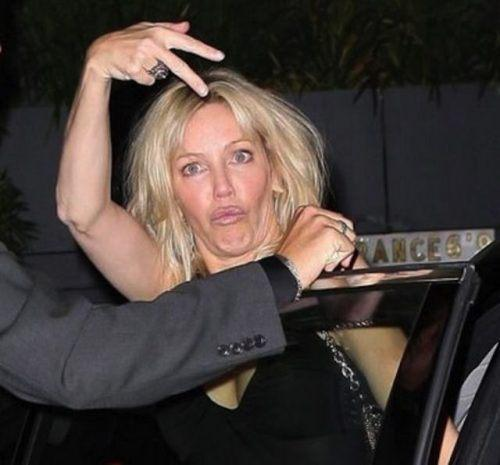Drunk: (168, 111, 271, 246)
